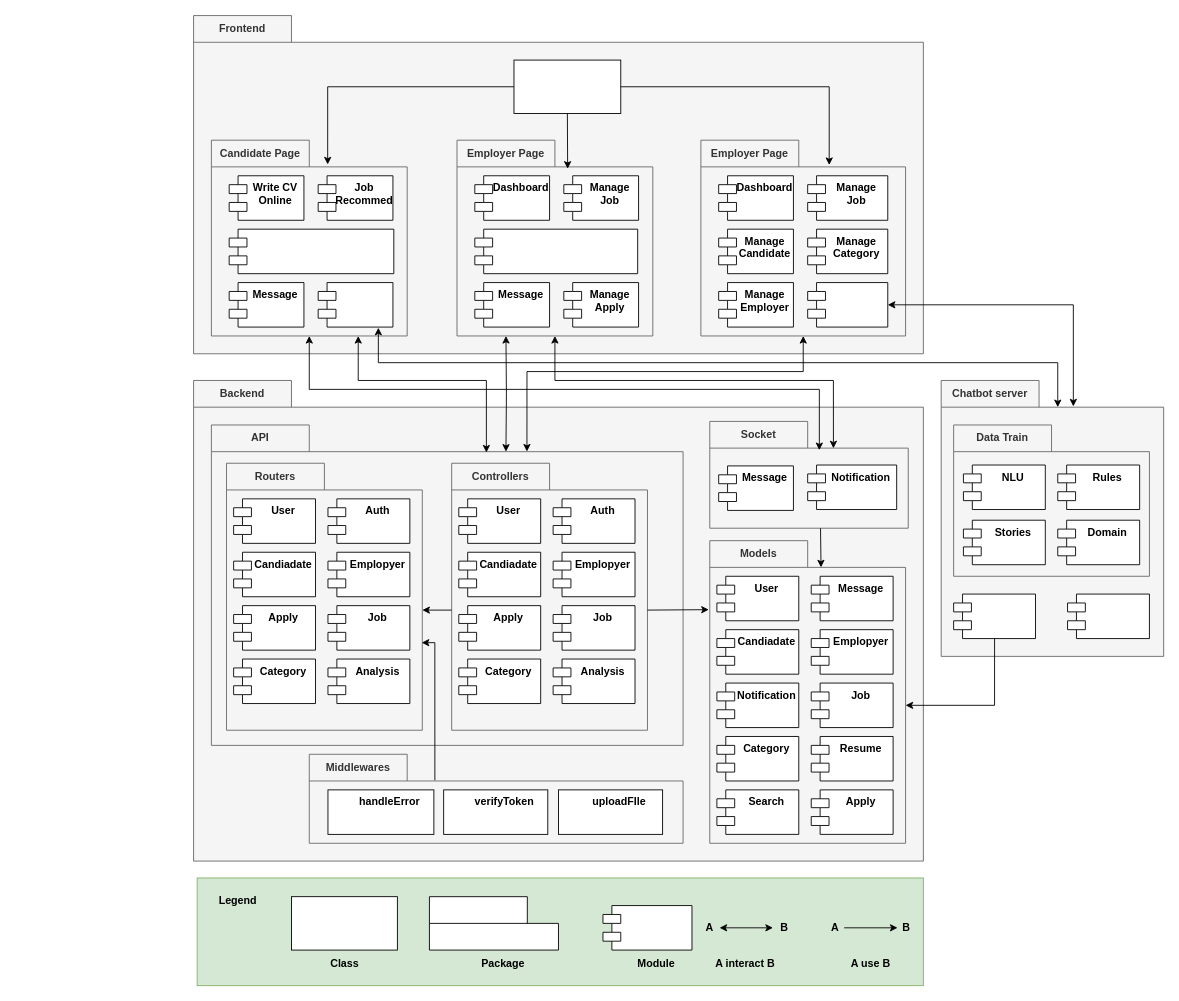
Some shapes in this 1179 by 1001 pixel diagram are drawn without their labels. The shapes that lost their labels are listed below. From the top down, each one's centre as x and y in pixels, then its label:
At point (567, 86): "Web UI".
At point (311, 251): "View, Search & Category Job".
At point (556, 251): "CV Aanalysis & Candidate Recommendation".
At point (355, 304): "Chatbot".
At point (847, 304): "Chatbot Dashboard".
At point (994, 616): "Action".
At point (1108, 616): "Model".
